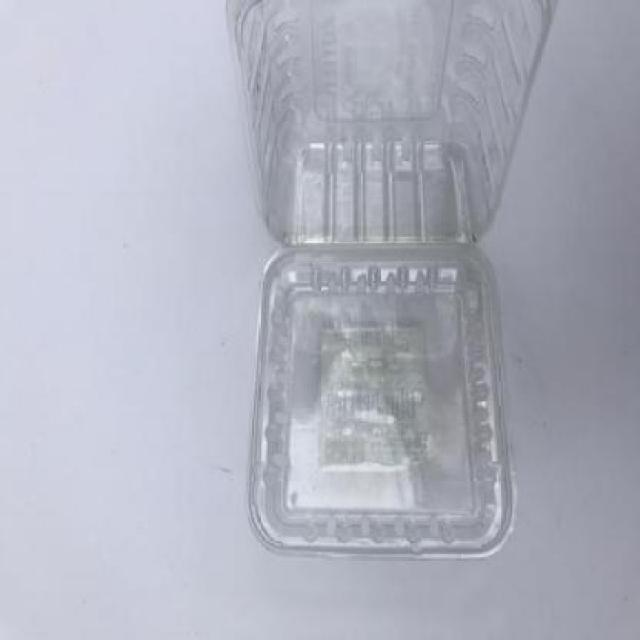trash: (212, 0, 558, 578)
